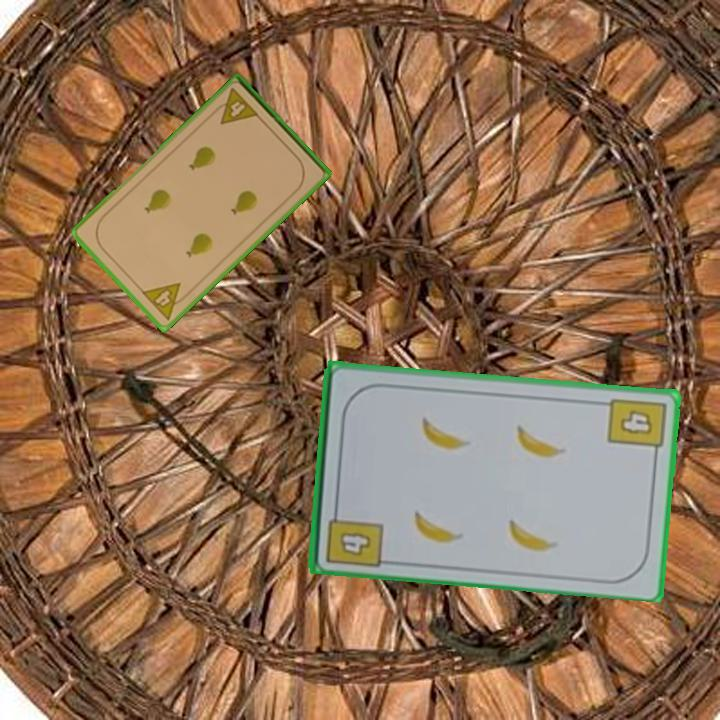4b: (322, 501, 385, 569), (604, 394, 668, 460)
4p: (138, 279, 192, 323), (209, 84, 262, 128)
